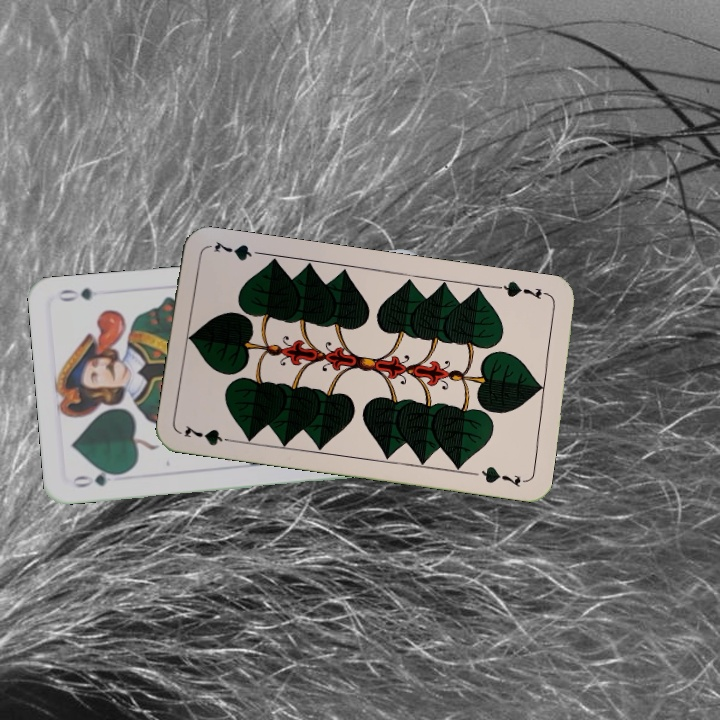G7: (180, 421, 239, 448), (493, 277, 552, 302)
GO: (69, 466, 126, 490)
